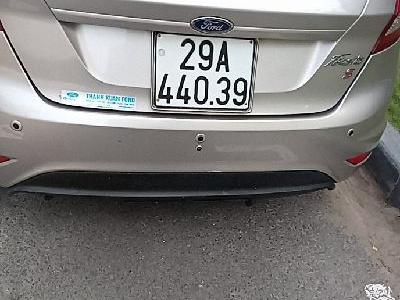car: (152, 31, 258, 114)
